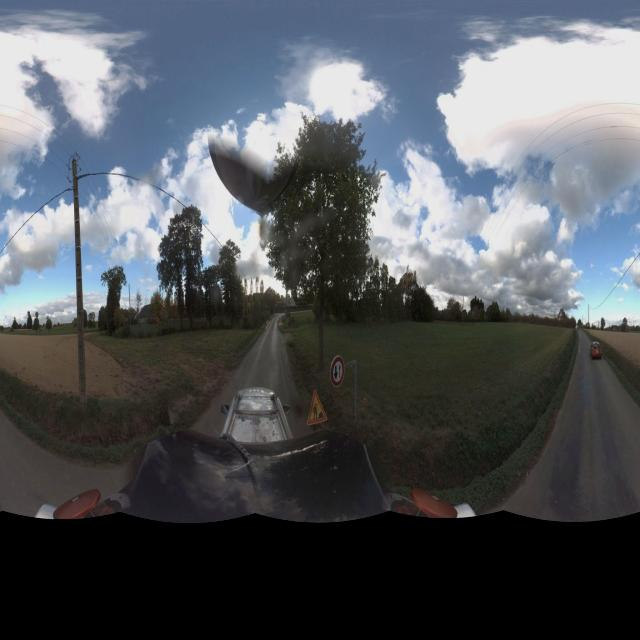car: (590, 340, 602, 360)
